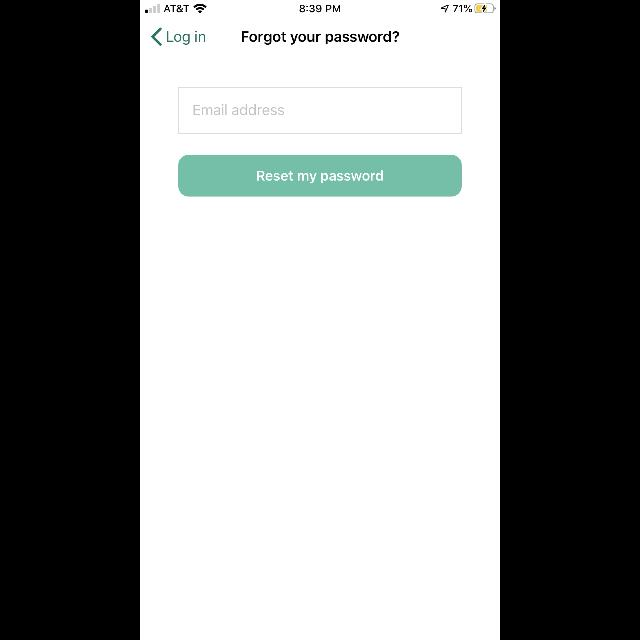icon: (152, 28, 162, 46)
input: (178, 88, 462, 134)
text: (242, 31, 400, 45), (194, 104, 284, 116), (167, 31, 205, 45)
textbutton: (178, 155, 462, 197)
uppertaskbar: (140, 0, 500, 14)
